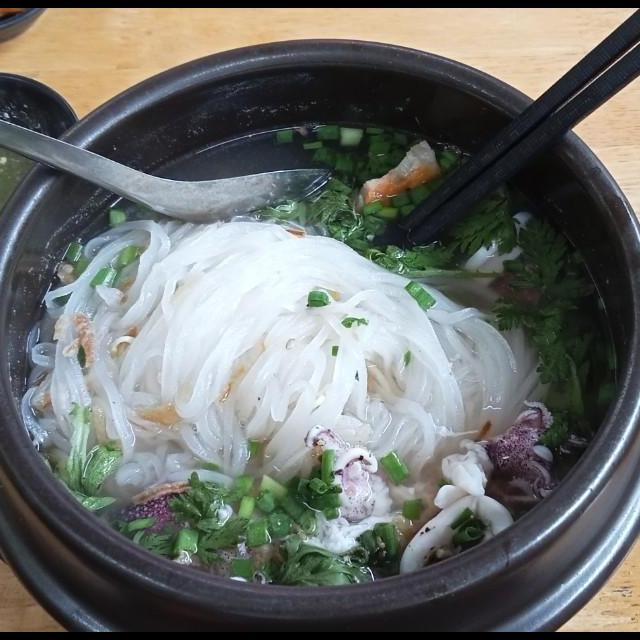banh hu tieu: (11, 209, 553, 519)
muc: (108, 481, 268, 595), (282, 422, 405, 564), (429, 395, 564, 515), (456, 209, 562, 320), (394, 493, 517, 586)
